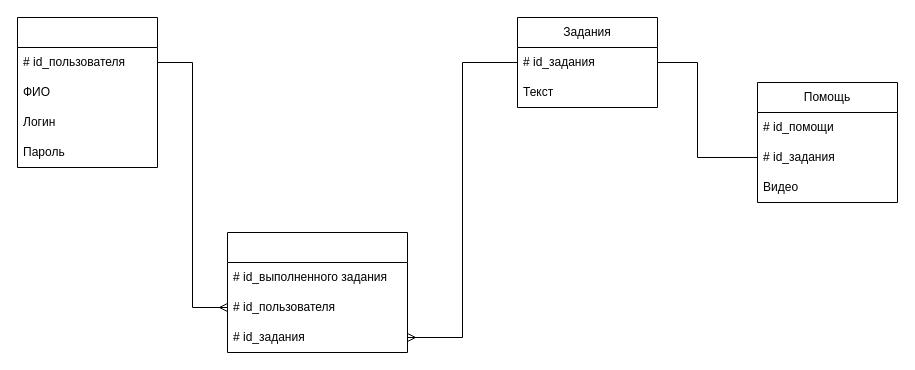
This 915x370 diagram has some shape labels left out. The shapes that lost their labels are listed below. From the top down, each one's box as (x1, y1, x2, y2) in pixels, then its label:
(16, 16, 158, 168): Пользователь
(226, 232, 408, 352): Выполненые задания
